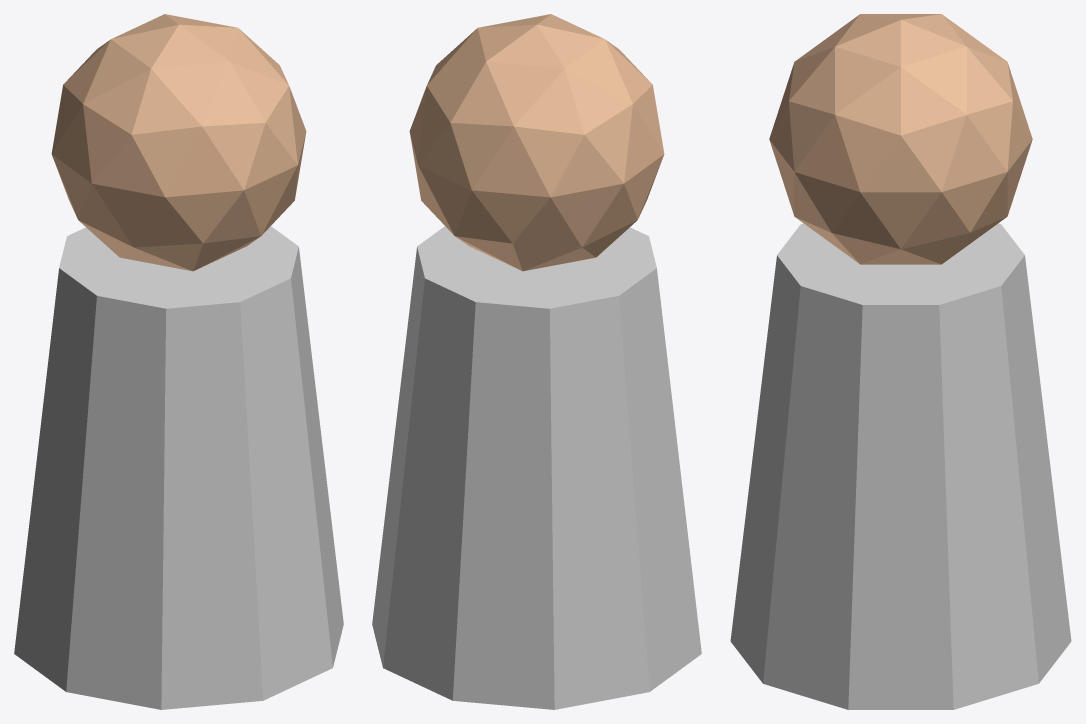
The model's file is colonist.glb.
3 renders of one model, left to right at view 1: azimuth 30°, elevation 25°; view 2: azimuth 150°, elevation 25°; view 3: azimuth 270°, elevation 25°, orthographic.
Parts seen in each view (by area): view 1: body, head; view 2: body, head; view 3: body, head.
Boxes of the visible parts, <box> form: body: <box>14,226,343,709</box>; head: <box>51,14,306,271</box>; body: <box>372,226,701,709</box>; head: <box>409,14,664,271</box>; body: <box>730,223,1071,709</box>; head: <box>769,14,1032,264</box>.
Size of the model in its own units: 0.4185 by 0.885 by 0.44.
